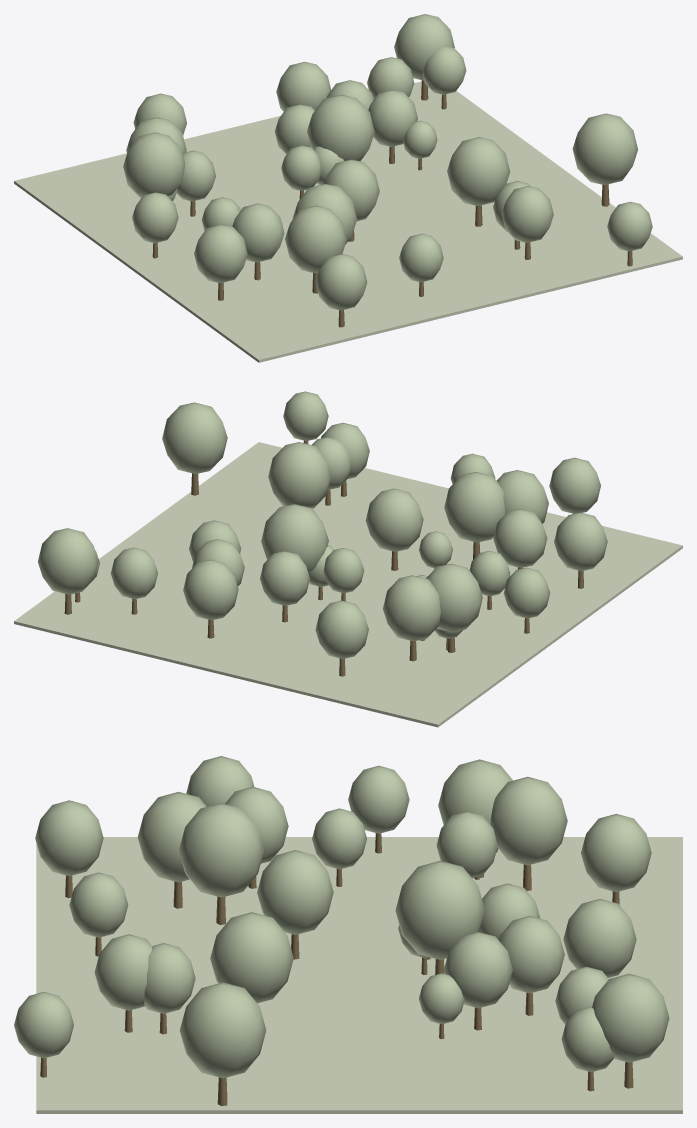
3 views of the same model, one above another, from view 1: azimuth 30°, elevation 25°; view 2: azimuth 150°, elevation 25°; view 3: azimuth 270°, elevation 25° (orthographic). The views are drawn at different scales.
Parts seen in each view (by area): view 1: terrain, lod-near-17, lod-near-14, lod-near-30, lod-near-24, lod-near-31, lod-near-0, lod-near-12, lod-near-19, lod-near-11, lod-near-15, lod-near-6 (+18 smaller); view 2: terrain, lod-near-17, lod-near-5, lod-near-30, lod-near-12, lod-near-3, lod-near-14, lod-near-8, lod-near-24, lod-near-23, lod-near-15, lod-near-0 (+15 smaller); view 3: terrain, lod-near-14, lod-near-17, lod-near-5, lod-near-30, lod-near-3, lod-near-12, lod-near-8, lod-near-23, lod-near-29, lod-near-11, lod-near-6 (+16 smaller).
Boxes of the visible parts, box(x1,y1,x2,y2) form: terrain: box(14, 81, 682, 362); lod-near-17: box(572, 113, 637, 184); lod-near-14: box(307, 94, 374, 161); lod-near-30: box(447, 137, 510, 205); lod-near-24: box(123, 132, 184, 198); lod-near-31: box(285, 205, 346, 273); lod-near-0: box(194, 224, 247, 283); lod-near-12: box(394, 14, 454, 80); lod-near-19: box(501, 186, 553, 242); lod-near-11: box(315, 254, 367, 310); lod-near-15: box(232, 203, 284, 262); lod-near-6: box(368, 90, 417, 146); terrain: box(14, 442, 682, 727); lod-near-17: box(162, 402, 227, 473); lod-near-5: box(444, 472, 505, 542); lod-near-30: box(268, 442, 331, 508); lod-near-12: box(38, 528, 98, 594); lod-near-3: box(383, 575, 440, 641); lod-near-14: box(261, 504, 328, 572); lod-near-8: box(365, 488, 423, 551); lod-near-24: box(426, 563, 482, 632); lod-near-23: box(183, 559, 238, 620); lod-near-15: box(493, 509, 547, 567); lod-near-0: box(554, 512, 607, 571); terrain: box(36, 837, 682, 1113); lod-near-14: box(395, 860, 484, 959); lod-near-17: box(179, 982, 266, 1078); lod-near-5: box(179, 803, 264, 897); lod-near-30: box(210, 912, 293, 1003); lod-near-3: box(490, 776, 567, 865); lod-near-12: box(592, 973, 669, 1062); lod-near-8: box(257, 850, 333, 934); lod-near-23: box(563, 899, 636, 977); lod-near-29: box(581, 813, 651, 892); lod-near-11: box(35, 800, 103, 876); lod-near-6: box(444, 932, 512, 1008).
Bounding box in the file's own units: 33.63 × 7.01 × 33.1.
